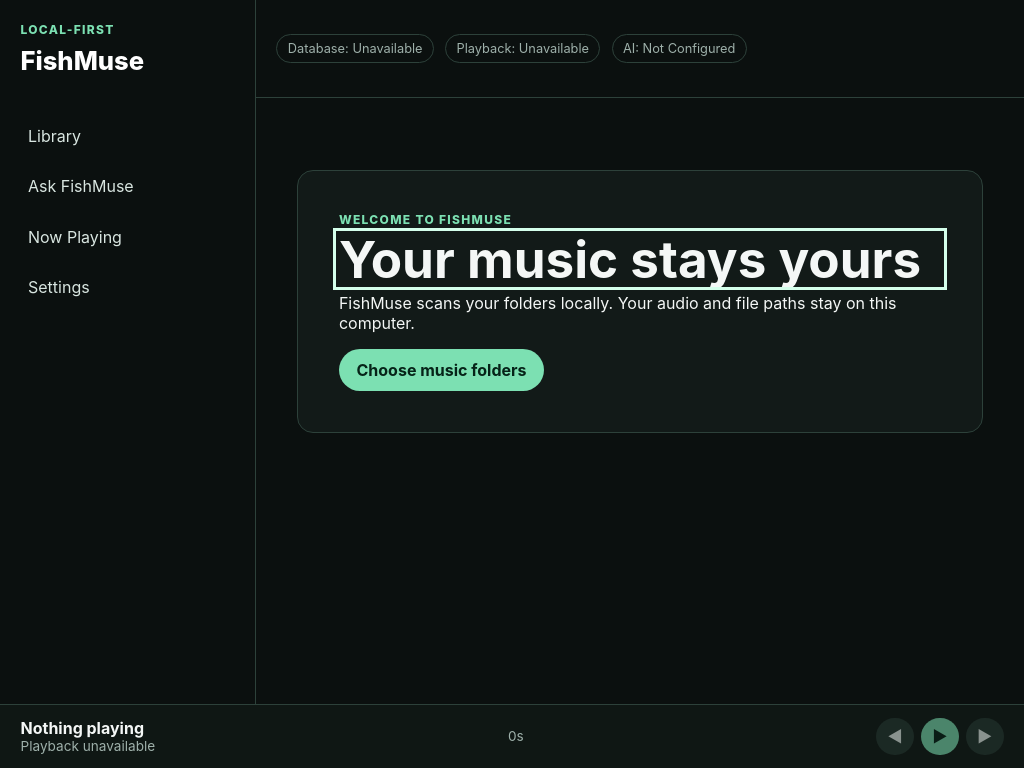
Test: first-run onboarding › explains local-first setup and starts a scan for the chosen folders
This screenshot has width=1024, height=768.
Expected: the heading "Your music stays yours" is shown, [339, 234, 941, 284]
Expected: the text "FishMuse scans your folders locally" is shown, [339, 293, 896, 333]
Click the button "Choose music folders". click: (442, 370)
box: [339, 349, 544, 391]
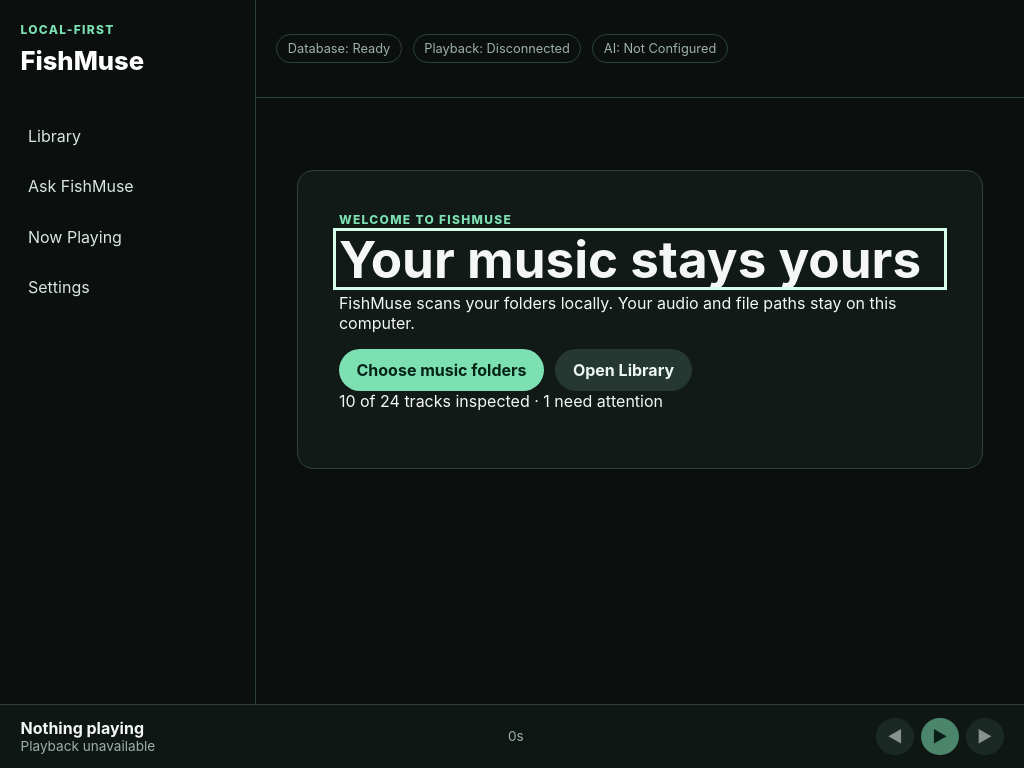
Result: the text "10 of 24 tracks inspected · 1 need attention" is shown at [339, 391, 663, 411]
Result: the link "Open Library" is shown at [555, 349, 692, 391]
